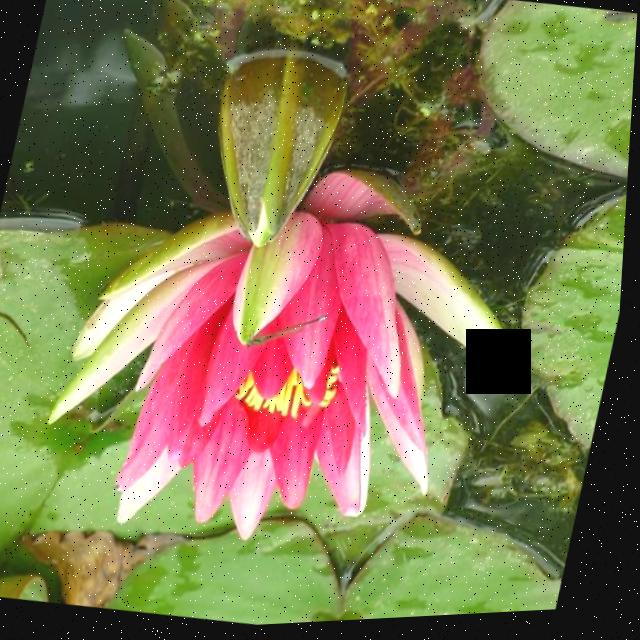water-lily: (7, 94, 575, 620)
